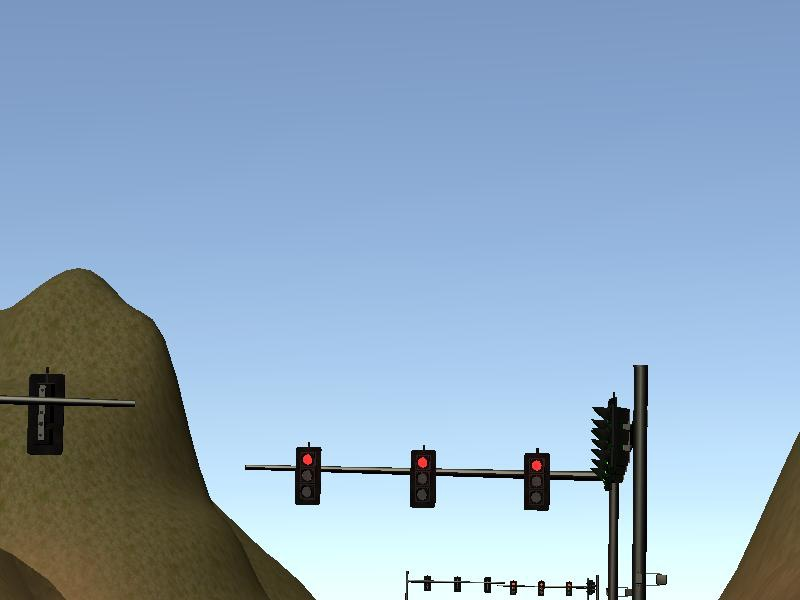red_light: (411, 452, 438, 508), (296, 447, 322, 504), (526, 454, 550, 511)
